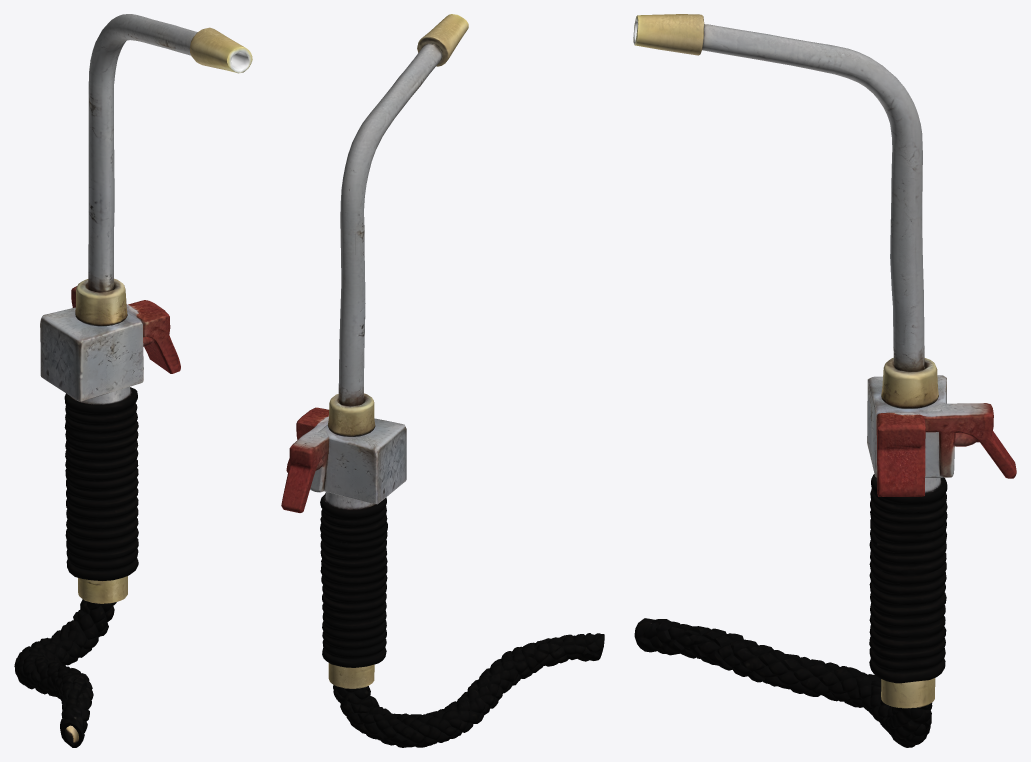
File: plasma_welder_raw.glb
The picture shows the model from 3 angles, left to right: view 1: azimuth 30°, elevation 25°; view 2: azimuth 150°, elevation 25°; view 3: azimuth 270°, elevation 25°; orthographic projection. The views are drawn at different scales.
Visible parts, largest first — view 1: model; view 2: model; view 3: model.
Boxes of the visible parts, x1,y1,x2,y2 form: model: (14, 14, 252, 747); model: (281, 14, 604, 747); model: (633, 14, 1016, 747).
Size of the model in its own units: 0.6415 by 1.9 by 0.8752.
Materials: 1 (1 with a texture image).
